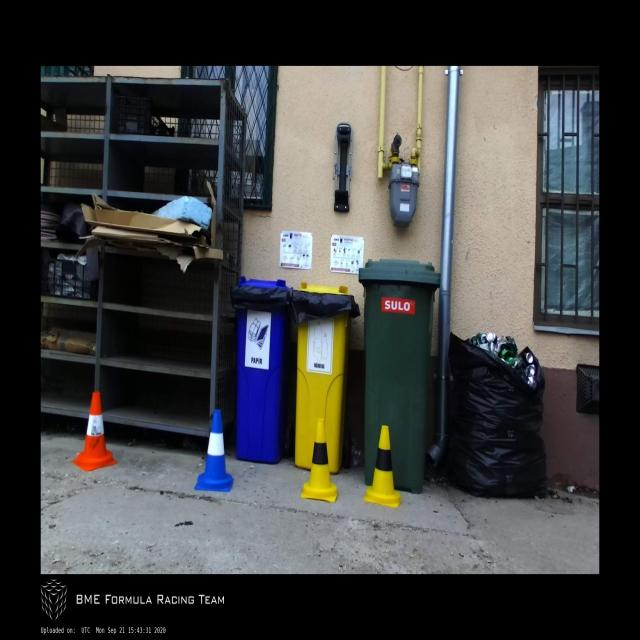blue_cone: (194, 409, 234, 492)
large_orange_cone: (72, 392, 118, 471)
yellow_cone: (364, 426, 403, 509), (301, 418, 338, 502)
